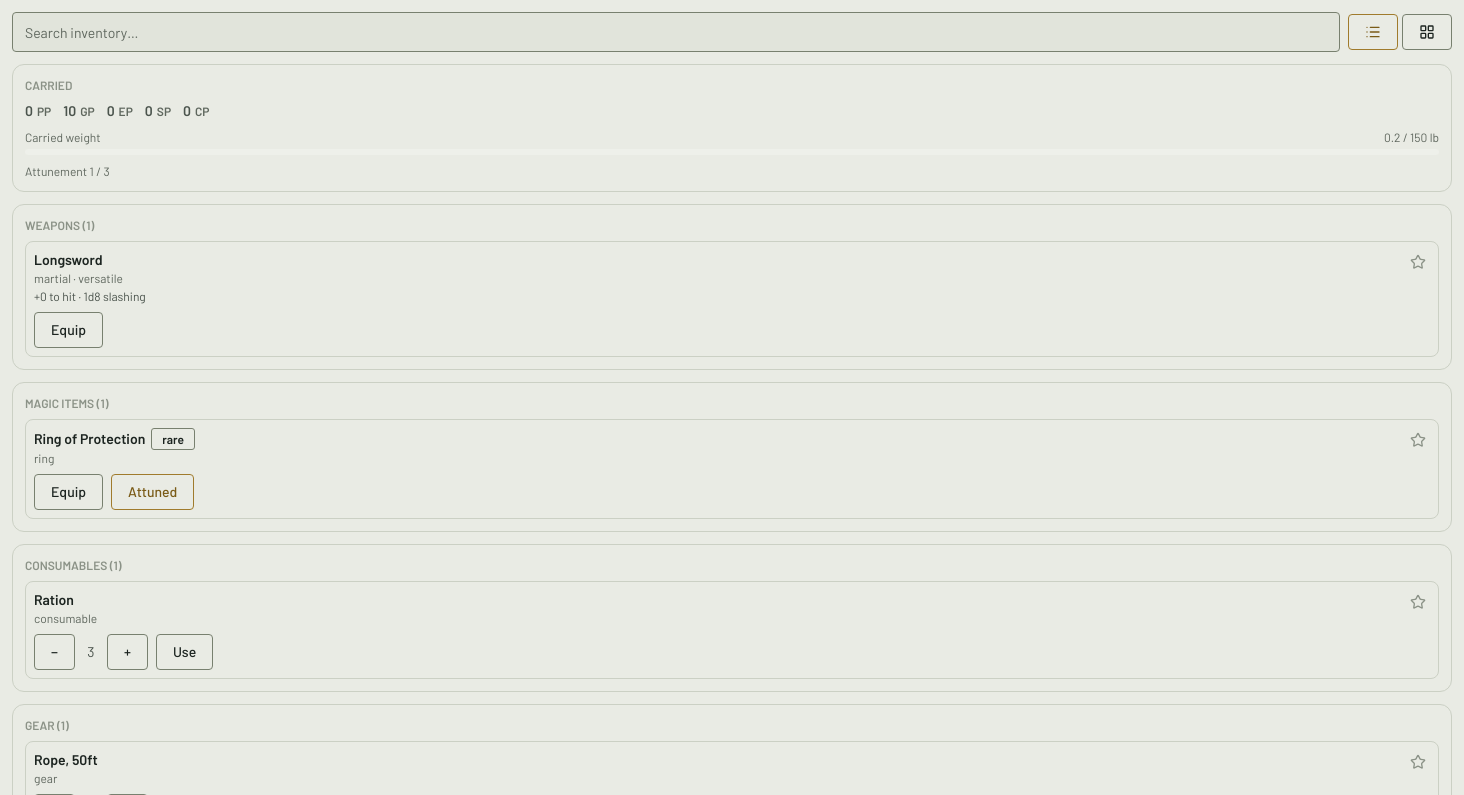
Test: InventoryTab › shows a no-matches empty state on an unmatched search
Type "nonexistent gizmo" into the search field labelled "Search inventory…". click: (676, 32)
box: [12,12,1340,52]
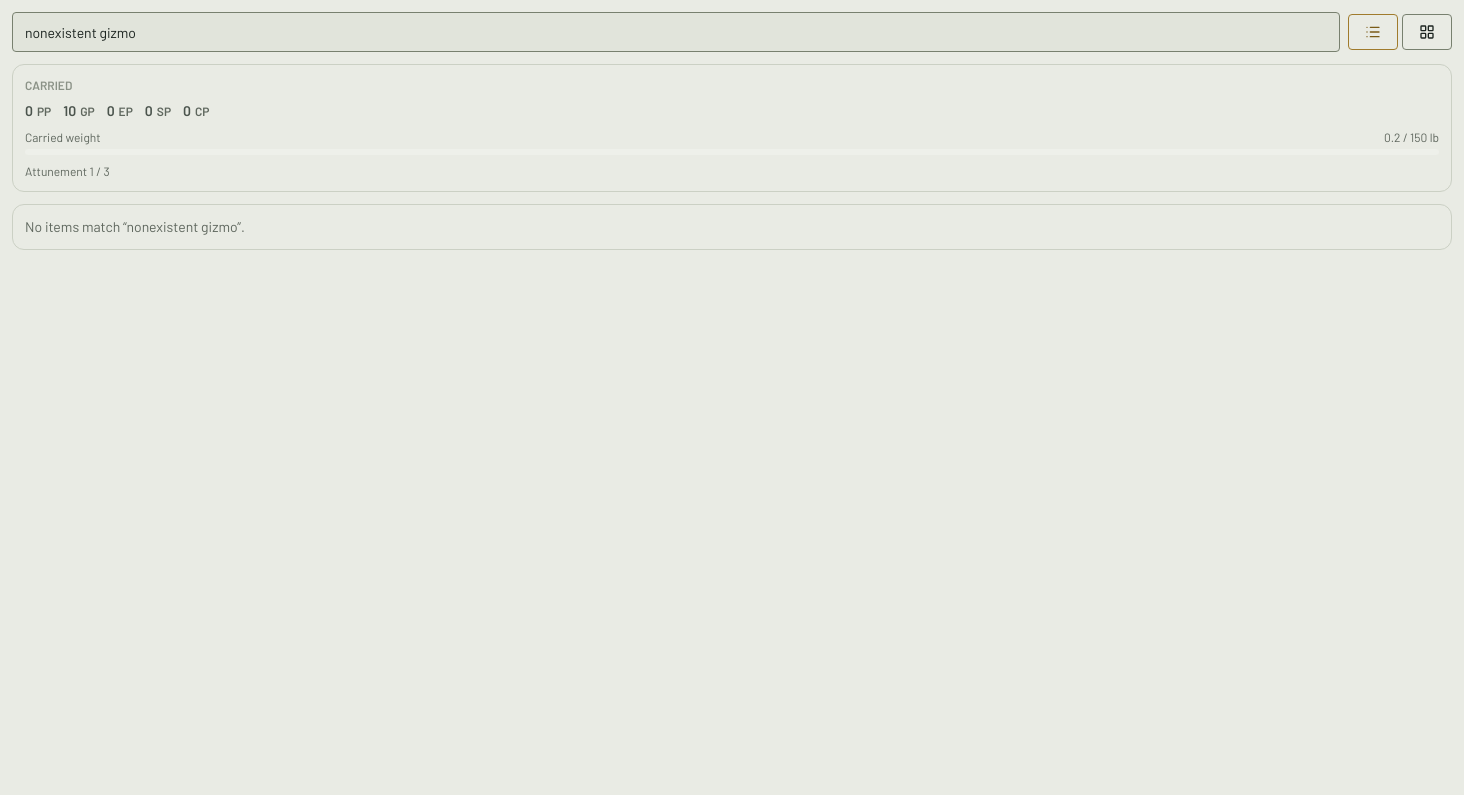
Now the text "No items match “nonexistent gizmo”." is shown, box [12,204,1452,250]
